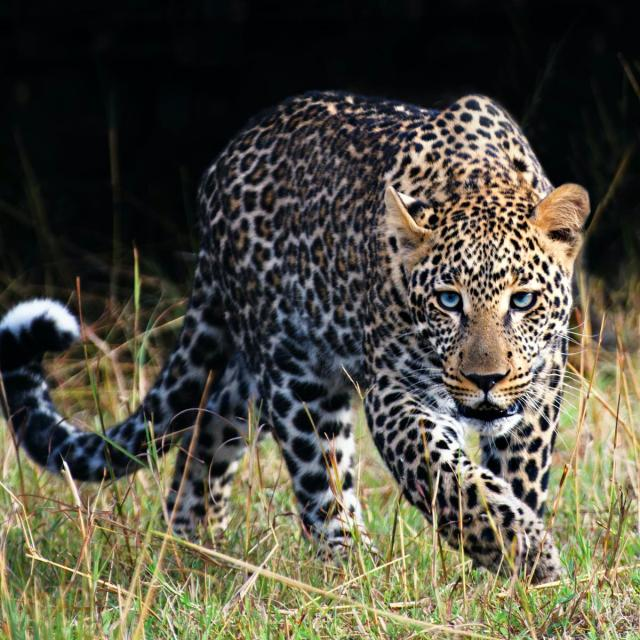leopard: (1, 91, 589, 582)
